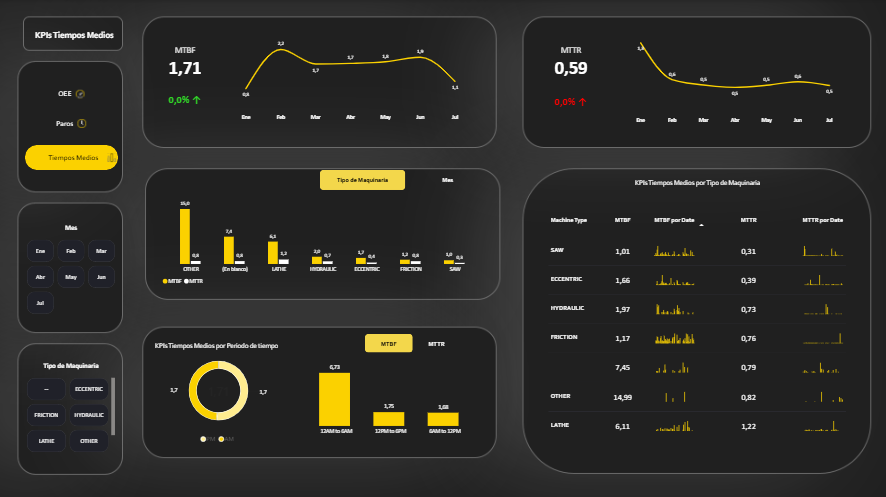

The page's visual inventory and layout, read from the dashboard file:
{"tool":"powerbi","page":{"name":"Tiempos Medios","canvas":[1920,1080],"ordinal":2},"visuals":[{"type":"shape","box":[77.8,56.2,185.8,41],"z":0},{"type":"actionButton","box":[77.8,185.8,179.3,38.9],"z":1},{"type":"actionButton","box":[73.4,248.4,194.4,41],"z":2},{"type":"actionButton","box":[56.2,315.4,200.9,54],"z":3},{"type":"advancedSlicerVisual","title":"Mes","fields":{"Values":["dim_date.Mes"]},"box":[60.5,486,190.1,196.6],"z":4},{"type":"advancedSlicerVisual","title":"Tipo de Maquinaria","fields":{"Values":["dim_machine.Machine Type"]},"box":[60.5,784.1,190.1,196.6],"z":5},{"type":"cardVisual","fields":{"Data":["_Medidas OEE.MTBF"]},"box":[313.2,69.1,177.1,136.1],"z":6},{"type":"card","fields":{"Values":["_Medidas OEE.MTBF chg"]},"box":[337,190.1,129.6,58.3],"z":7},{"type":"lineClusteredColumnComboChart","fields":{"Category":["Month Cal table.Mes"],"Y":["Month Cal table.MTBF Bar CF Highlight"],"Y2":["Month Cal table.MTBF Line chart","Month Cal table.MTBF CF Highlight"]},"box":[466.6,69.1,585.4,213.8],"z":8},{"type":"cardVisual","fields":{"Data":["_Medidas OEE.MTTR"]},"box":[1147,69.1,177.1,136.1],"z":9},{"type":"card","fields":{"Values":["_Medidas OEE.MTTR chg"]},"box":[1170.7,194.4,129.6,58.3],"z":10},{"type":"lineClusteredColumnComboChart","fields":{"Category":["Month Cal table.Mes"],"Y":["Month Cal table.MTTR Bar CF Highlight"],"Y2":["Month Cal table.MTTR Line chart","Month Cal table.MTTR CF Highlight"]},"box":[1324.1,56.2,531.4,233.3],"z":11},{"type":"advancedSlicerVisual","fields":{"Values":["Máquina/Mes..Máquina/Mes."]},"box":[693.4,369.4,369.4,43.2],"z":12},{"type":"clusteredColumnChart","fields":{"Category":["dim_machine.Machine Type"],"Y":["_Medidas OEE.MTBF","_Medidas OEE.MTTR"]},"box":[337,391,725.8,248.4],"z":13},{"type":"shape","box":[337,734.4,347.9,30.5],"z":14},{"type":"advancedSlicerVisual","fields":{"Values":["MTBF/MTTR.MTBF/MTTR"]},"box":[790.6,723.6,206.5,40.7],"z":15},{"type":"donutChart","fields":{"Category":["dim_time.AMPM"],"Y":["_Medidas OEE.MTBF"]},"box":[337,743,274.3,237.6],"z":16},{"type":"columnChart","fields":{"Category":["dim_time.Period"],"Y":["_Medidas OEE.MTBF"]},"box":[628.6,762.5,434.2,198.7],"z":17},{"type":"shape","box":[1373.8,382.3,347.9,30.5],"z":18},{"type":"pivotTable","fields":{"Rows":["dim_machine.Machine Type"],"Values":["_Medidas OEE.MTBF","SparklineData(_Medidas OEE.MTBF_[dim_date.Date])","_Medidas OEE.MTTR","SparklineData(_Medidas OEE.MTTR_[dim_date.Date])"]},"box":[1170.7,434.2,684.7,546.5],"z":19}]}

Visuals, with their boxes in screenshot pixels (x1, y1, x2, y2), scaled from the page's 1920x1080 canvas onto the 886x497 screenshot:
shape: (36, 26, 122, 45)
actionButton: (36, 86, 119, 103)
actionButton: (34, 114, 124, 133)
actionButton: (26, 145, 119, 170)
"Mes" advancedSlicerVisual: (28, 224, 116, 314)
"Tipo de Maquinaria" advancedSlicerVisual: (28, 361, 116, 451)
cardVisual - _Medidas OEE.MTBF: (145, 32, 226, 94)
card - _Medidas OEE.MTBF chg: (156, 87, 215, 114)
lineClusteredColumnComboChart - Month Cal table.Mes x Month Cal table.MTBF Bar CF Highlight: (215, 32, 485, 130)
cardVisual - _Medidas OEE.MTTR: (529, 32, 611, 94)
card - _Medidas OEE.MTTR chg: (540, 89, 600, 116)
lineClusteredColumnComboChart - Month Cal table.Mes x Month Cal table.MTTR Bar CF Highlight: (611, 26, 856, 133)
advancedSlicerVisual - Máquina/Mes..Máquina/Mes.: (320, 170, 490, 190)
clusteredColumnChart - dim_machine.Machine Type x _Medidas OEE.MTBF: (156, 180, 490, 294)
shape: (156, 338, 316, 352)
advancedSlicerVisual - MTBF/MTTR.MTBF/MTTR: (365, 333, 460, 352)
donutChart - dim_time.AMPM x _Medidas OEE.MTBF: (156, 342, 282, 451)
columnChart - dim_time.Period x _Medidas OEE.MTBF: (290, 351, 490, 442)
shape: (634, 176, 794, 190)
pivotTable - dim_machine.Machine Type x _Medidas OEE.MTBF: (540, 200, 856, 451)
